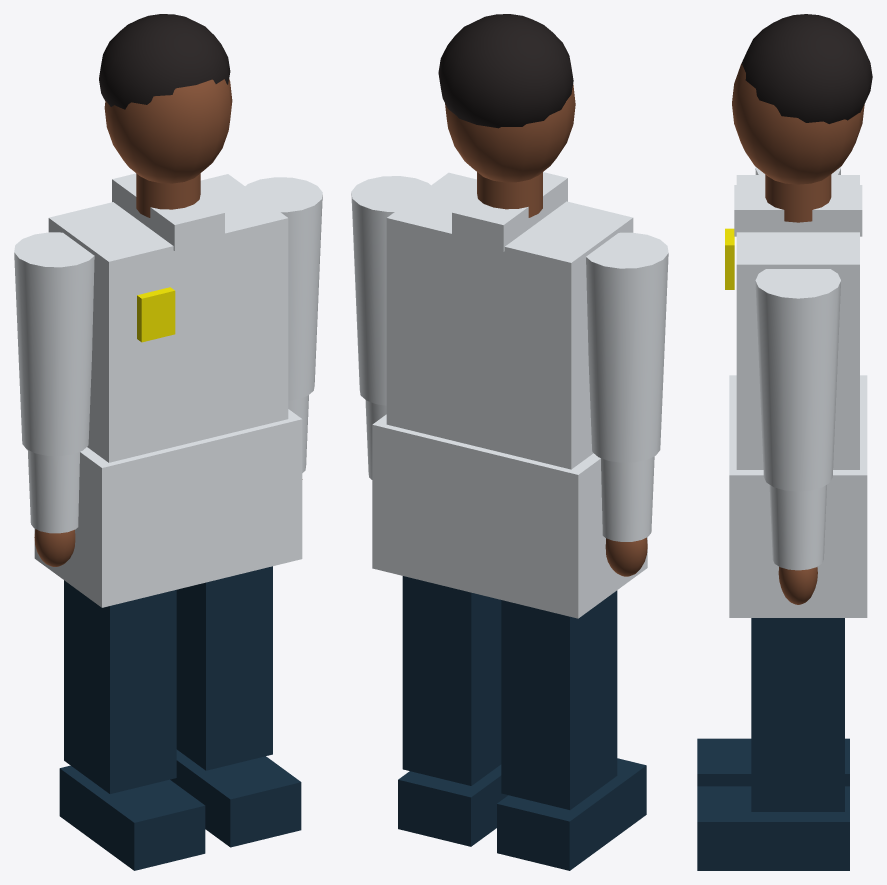
File: researcher.glb
3 renders of one model, left to right at view 1: azimuth 30°, elevation 25°; view 2: azimuth 150°, elevation 25°; view 3: azimuth 270°, elevation 25°, orthographic. The views are drawn at different scales.
Visible parts, largest first — view 1: Shirt, Trousers (×2), CoatSkirt, Sleeve (×2), Shoe (×2), Head, Hair, Forearm (×2), Collar, Neck, Badge, Hand; view 2: Shirt, Trousers (×2), CoatSkirt, Sleeve (×2), Shoe (×2), Hair, Head, Forearm (×2), Collar, Neck, Hand; view 3: Trousers, Sleeve, CoatSkirt, Shirt, Shoe (×2), Hair, Head, Collar, Forearm, Neck, Hand, Badge.
Boxes of the visible parts, x1,y1,x2,y2 form: Shirt: (48,174,288,462); Trousers (×2): (64,566,272,793); CoatSkirt: (34,409,302,607); Sleeve (×2): (14,177,322,456); Shoe (×2): (59,749,301,870); Head: (104,79,232,183); Hair: (99,14,230,109); Forearm (×2): (27,395,308,533); Collar: (112,173,224,250); Neck: (136,173,200,217); Badge: (137,287,175,342); Hand: (34,529,75,566); Shirt: (386,172,633,469); Trousers (×2): (402,576,617,809); CoatSkirt: (372,414,647,618); Sleeve (×2): (351,176,668,462); Shoe (×2): (398,758,646,870); Hair: (438,14,573,128); Head: (445,84,575,182); Forearm (×2): (365,400,654,541); Collar: (452,172,567,251); Neck: (477,172,542,217); Hand: (605,537,647,576); Trousers: (751,618,844,811); Sleeve: (755,269,840,491); CoatSkirt: (729,375,867,617); Shirt: (736,175,859,469); Shoe (×2): (697,738,849,870); Hair: (741,14,872,123); Head: (732,63,864,184); Collar: (734,185,862,236); Forearm: (769,485,826,570); Neck: (765,174,831,222); Hand: (778,567,817,604); Badge: (725,228,734,289).
Size of the model in its own units: 0.714 by 1.81 by 0.356.
